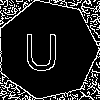U: (22, 24, 60, 71)
